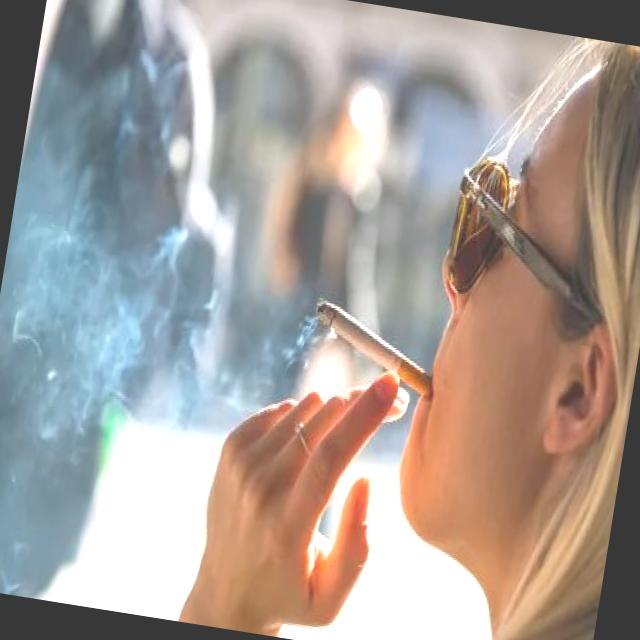cigarette: (304, 294, 447, 408)
